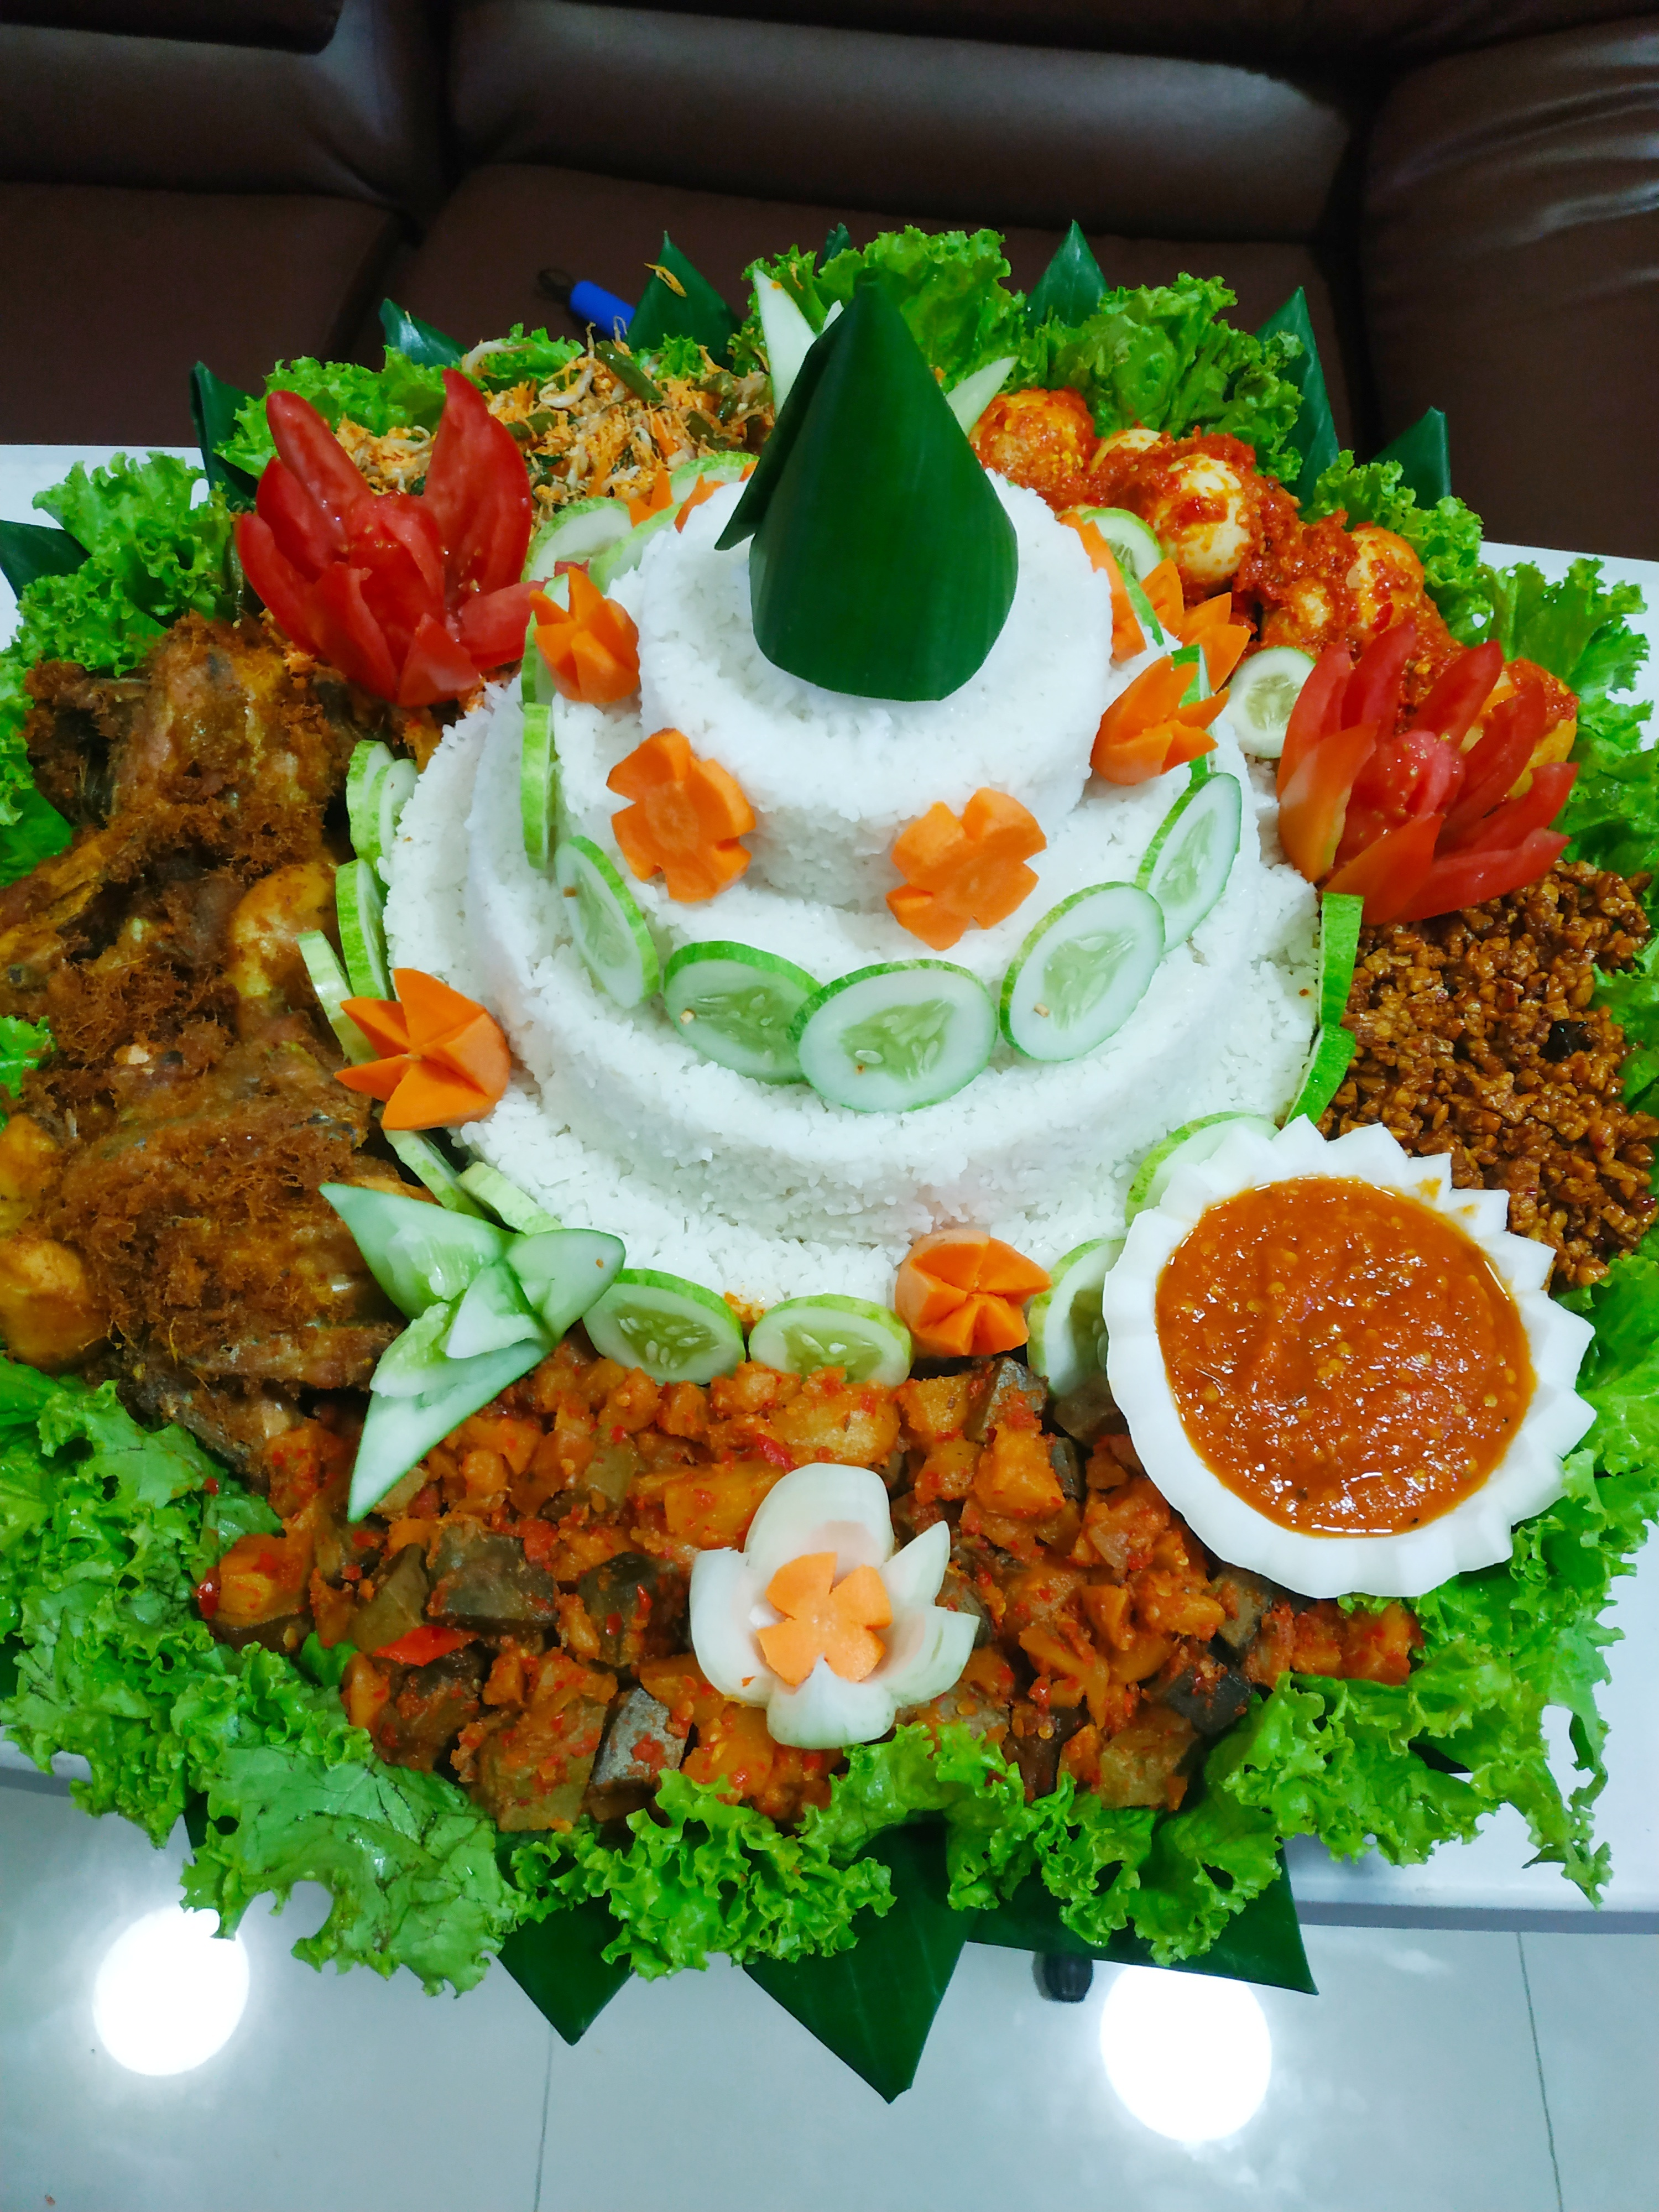nasi_tumpeng: (5, 293, 1647, 1860)
